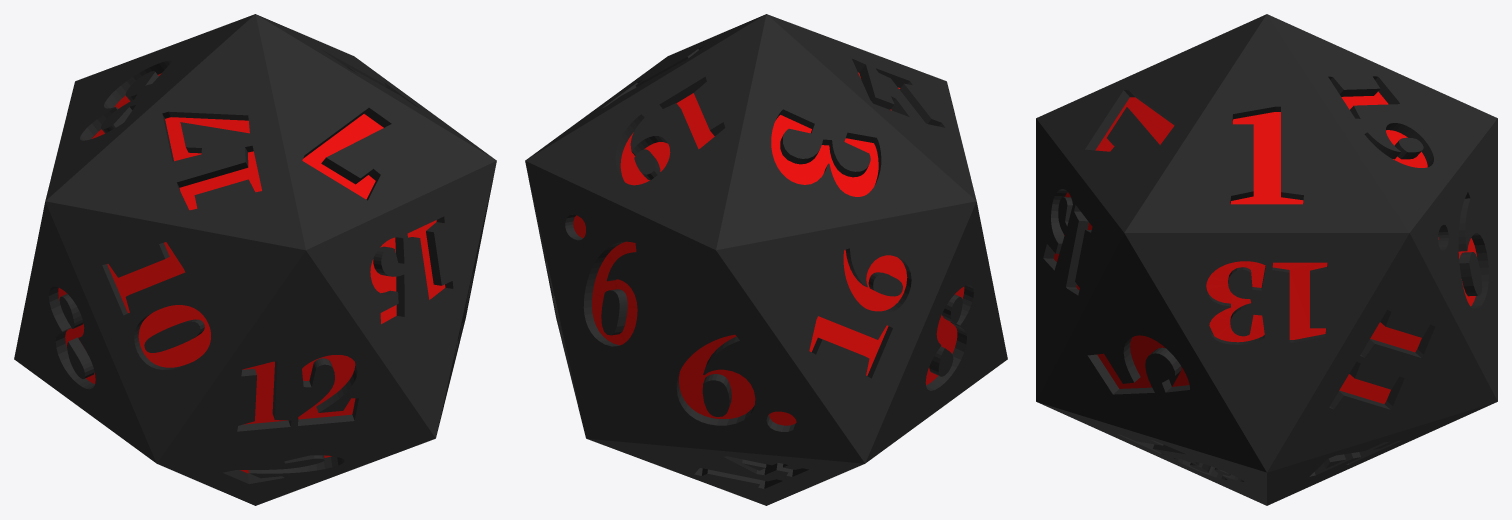
3 views of the same model, side by side, from view 1: azimuth 30°, elevation 25°; view 2: azimuth 150°, elevation 25°; view 3: azimuth 270°, elevation 25° (orthographic).
Visible parts, largest first — view 1: D20; view 2: D20; view 3: D20.
Part boxes in pixels (<box>): D20: <box>14,14,496,505</box>; D20: <box>525,14,1007,505</box>; D20: <box>1036,14,1497,505</box>.
Size of the model in its own units: 21.91 by 24.5 by 20.84.
